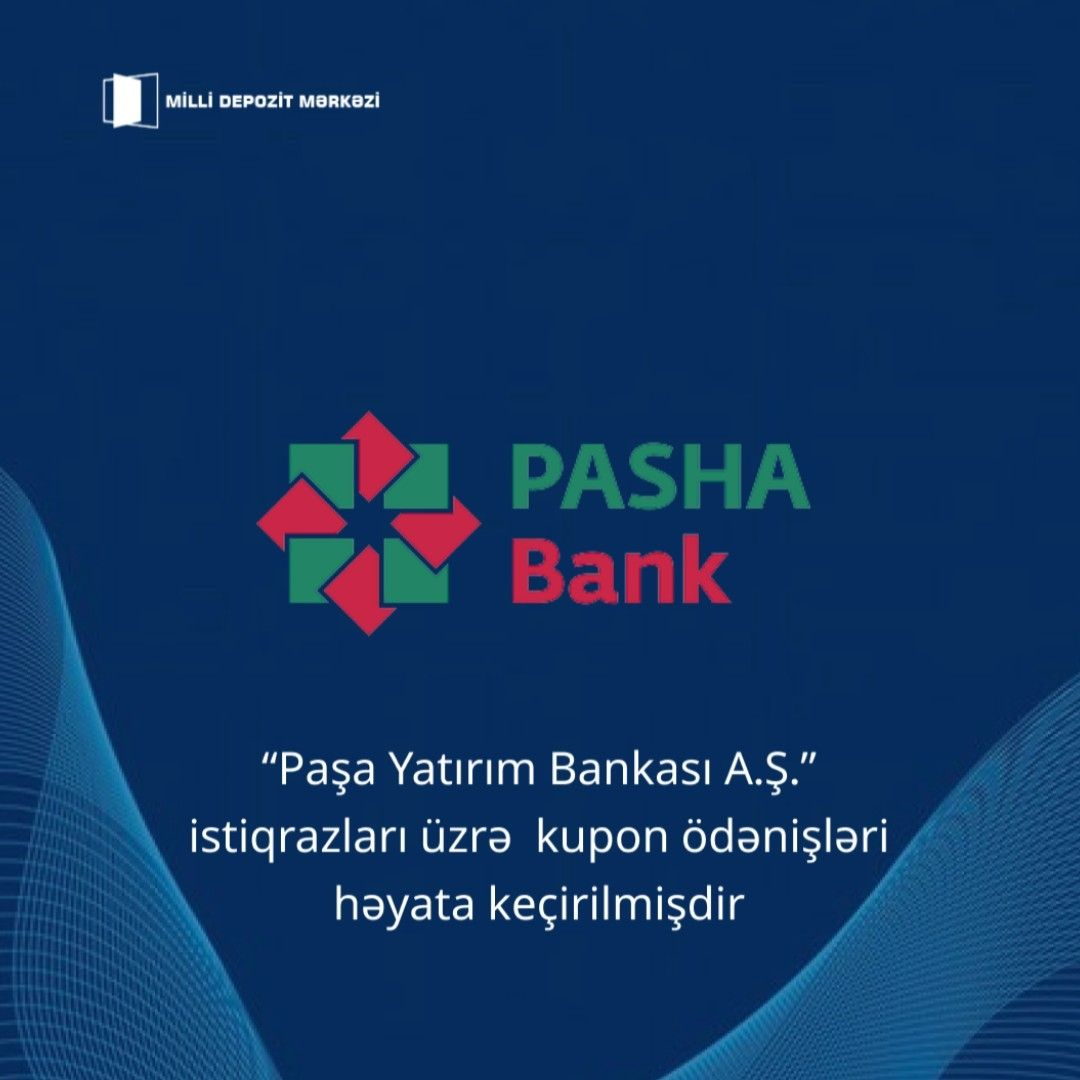Pasha Bank: (250, 405, 482, 642)
